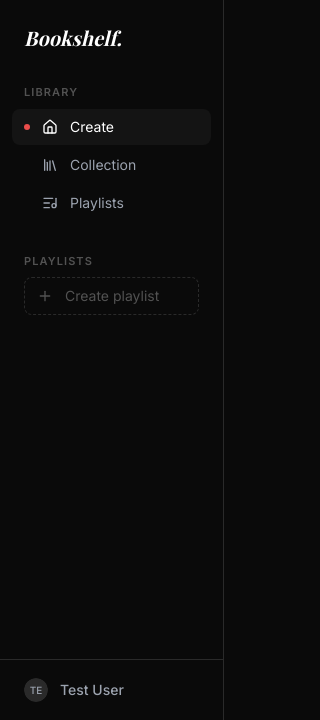
Scenario: AppSidebar › renders settings menu item
What coordinates should you click on to do the following:
click the button "TE Test User"
I would click on:
 (112, 690)
Its box is [12, 672, 211, 708].
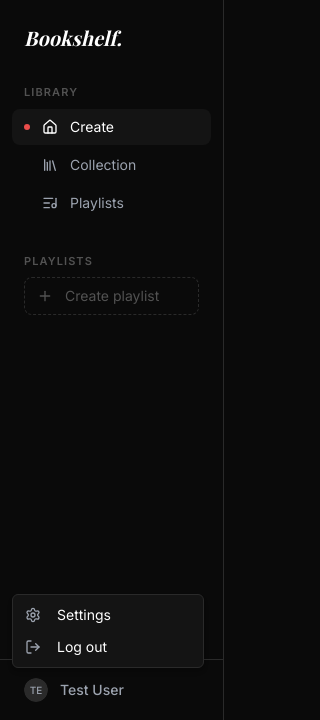
Check: the menu item "Settings" is shown, box [25, 606, 111, 623]
